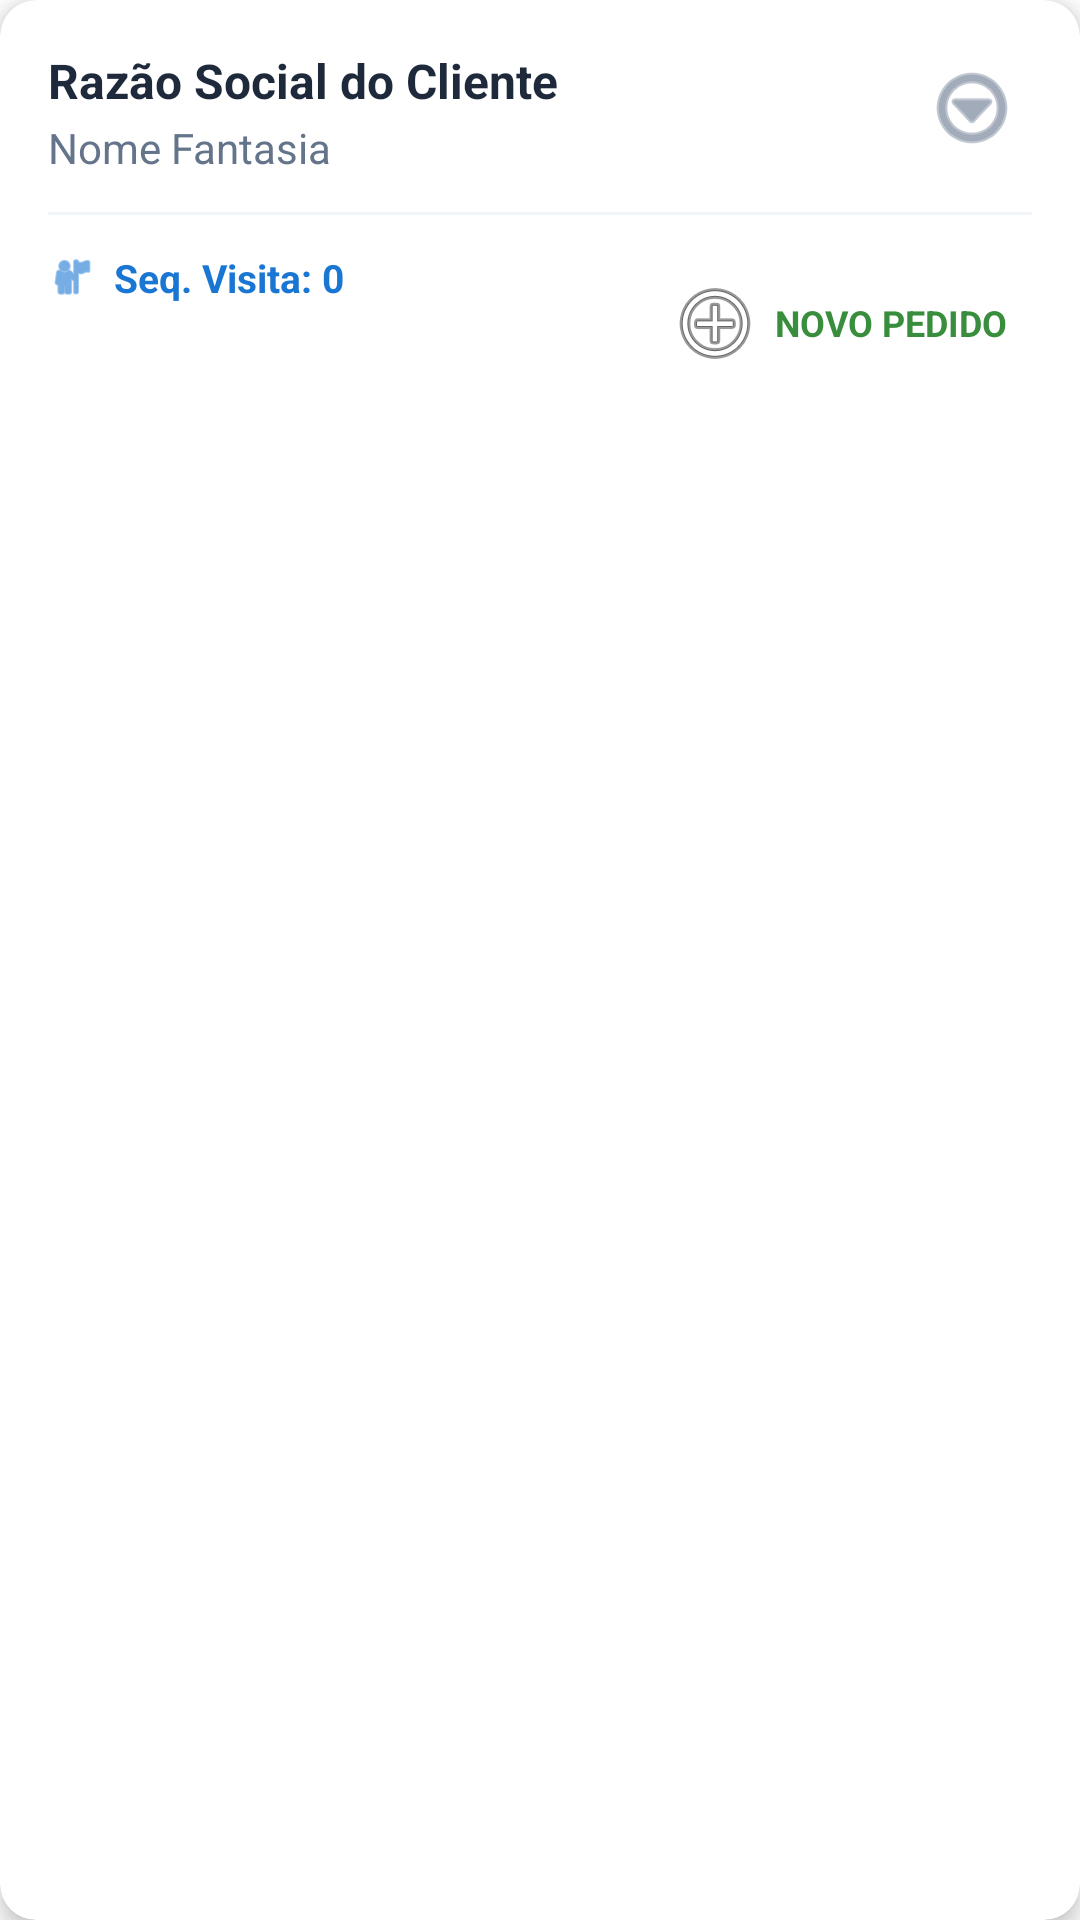

Where icons sit on this 1080×1920 app screen, as [x1, y1, x2, y2]:
Menu de opções: [937, 73, 1007, 143]
